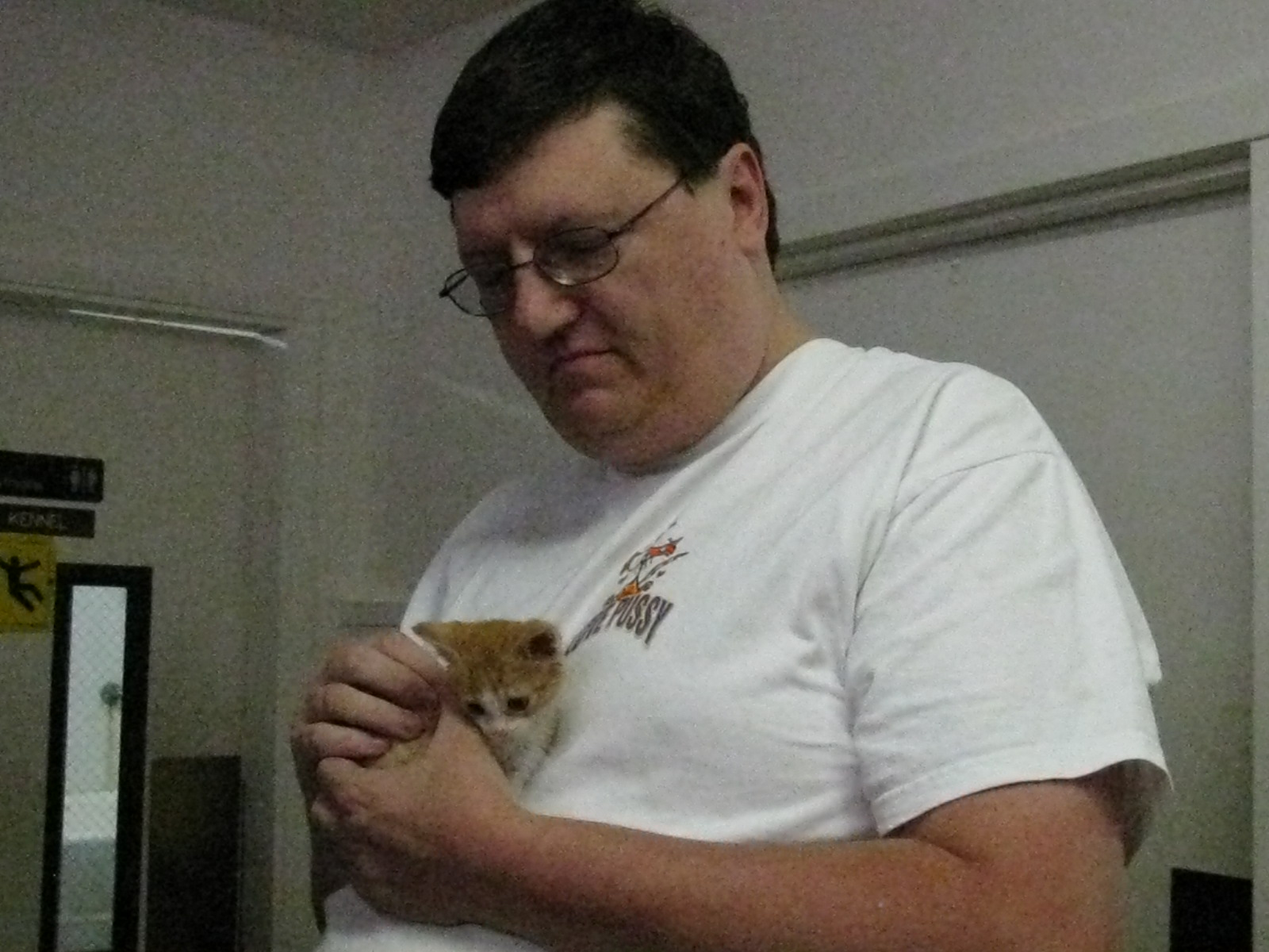cat: (357, 616, 569, 800)
